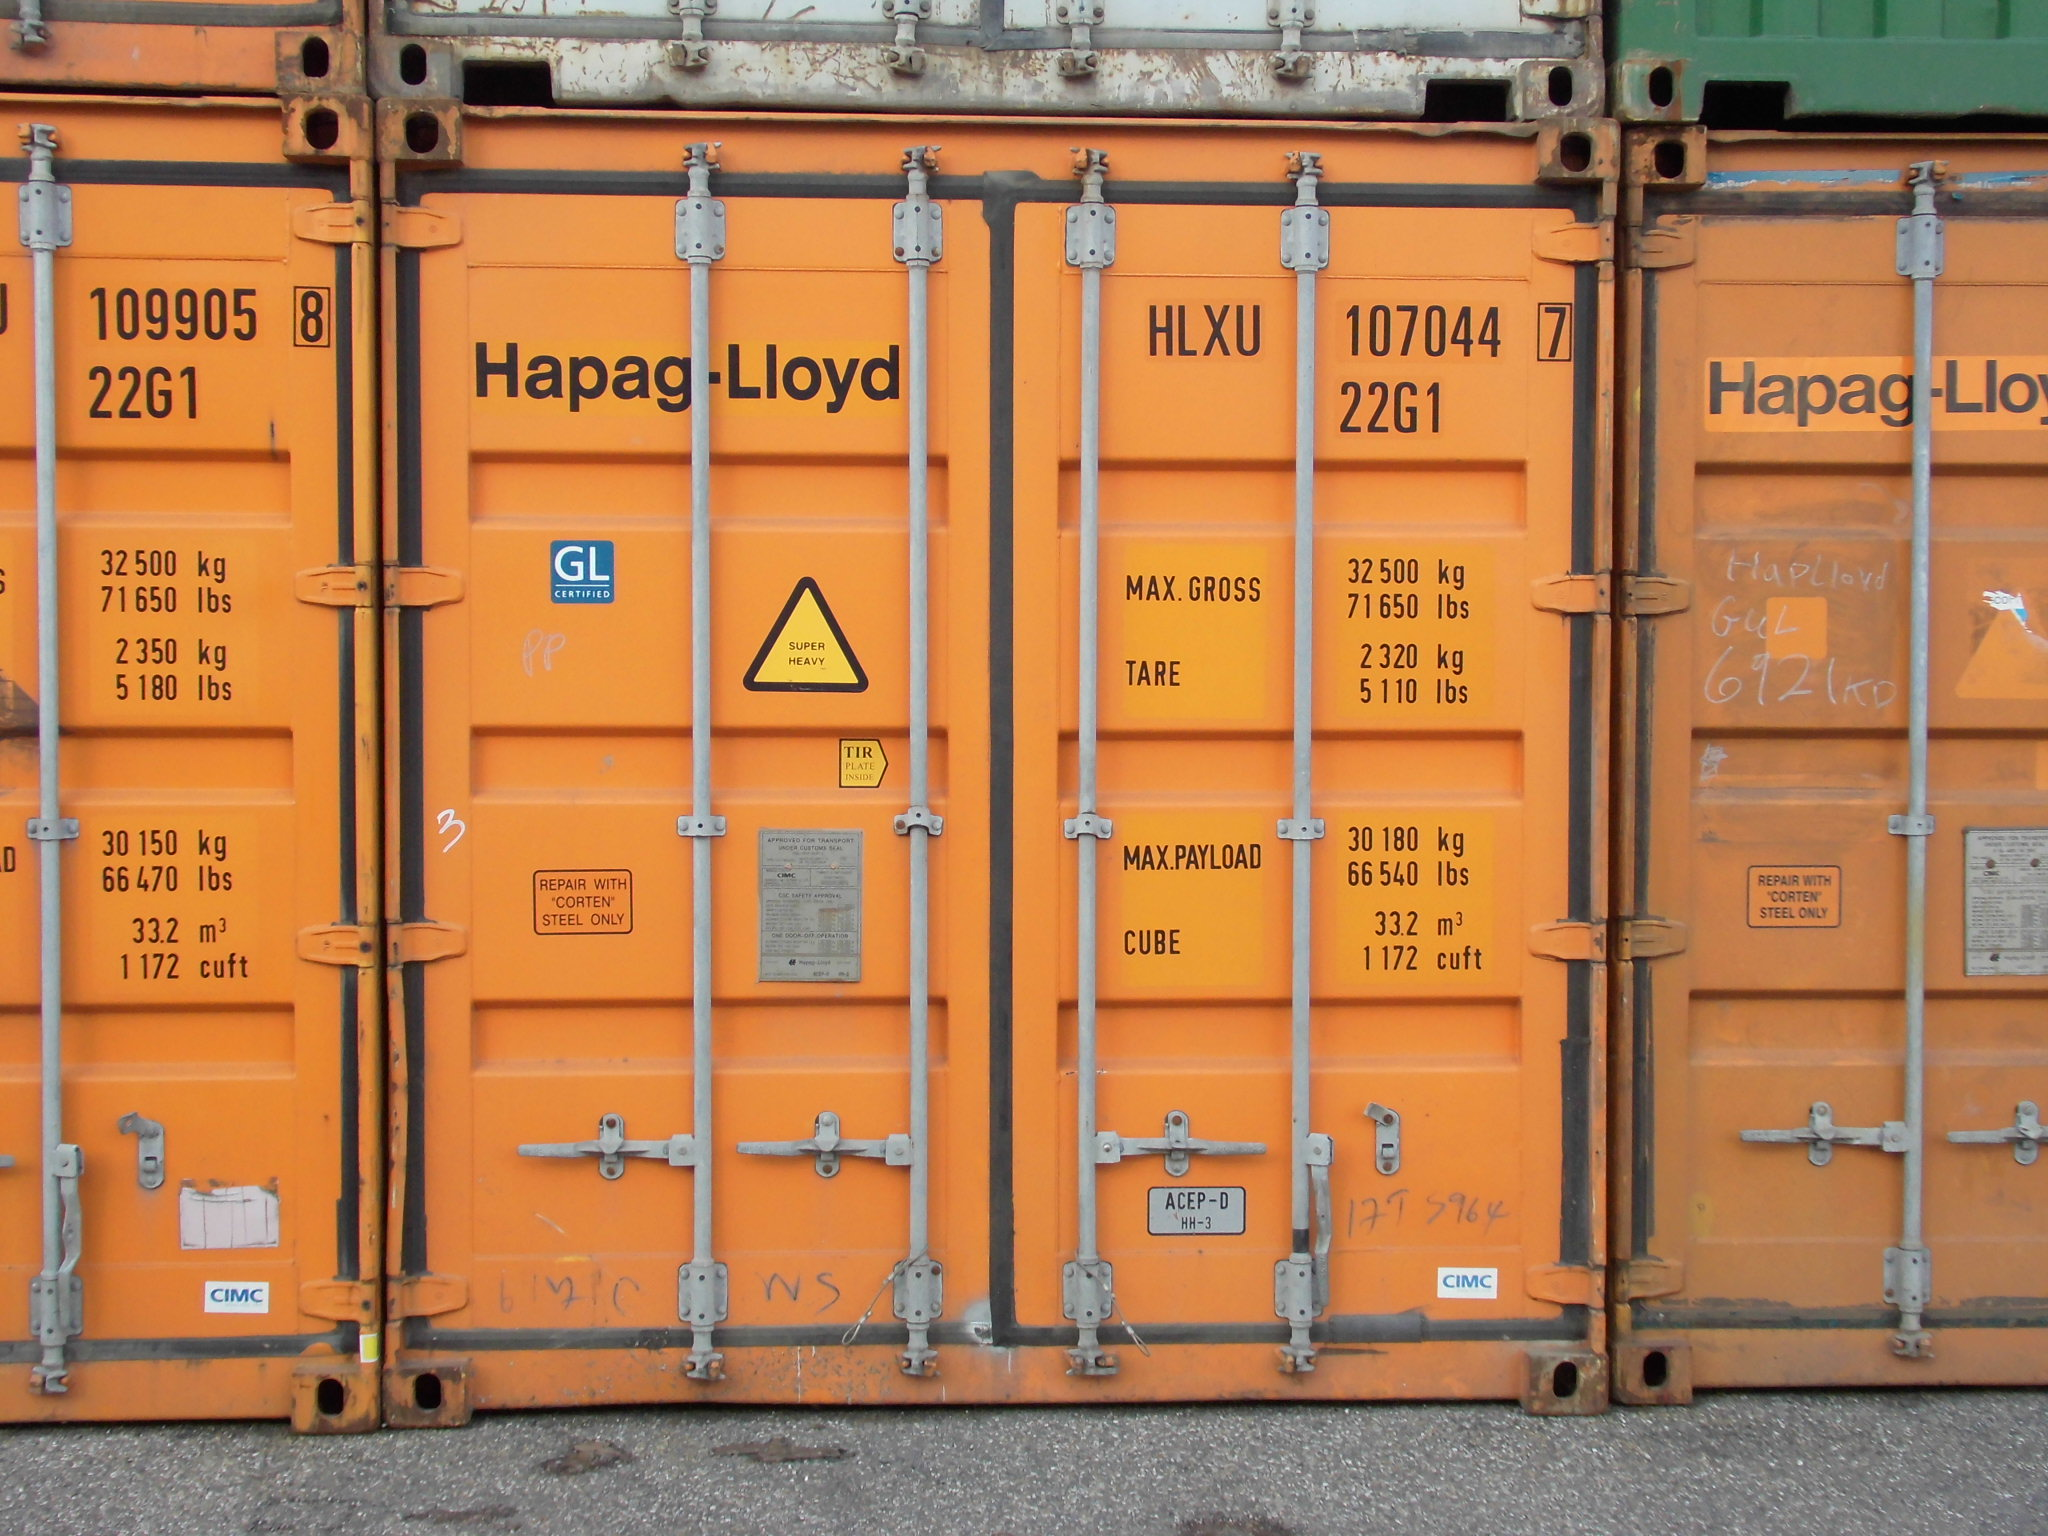container_door: (384, 94, 1624, 1430)
